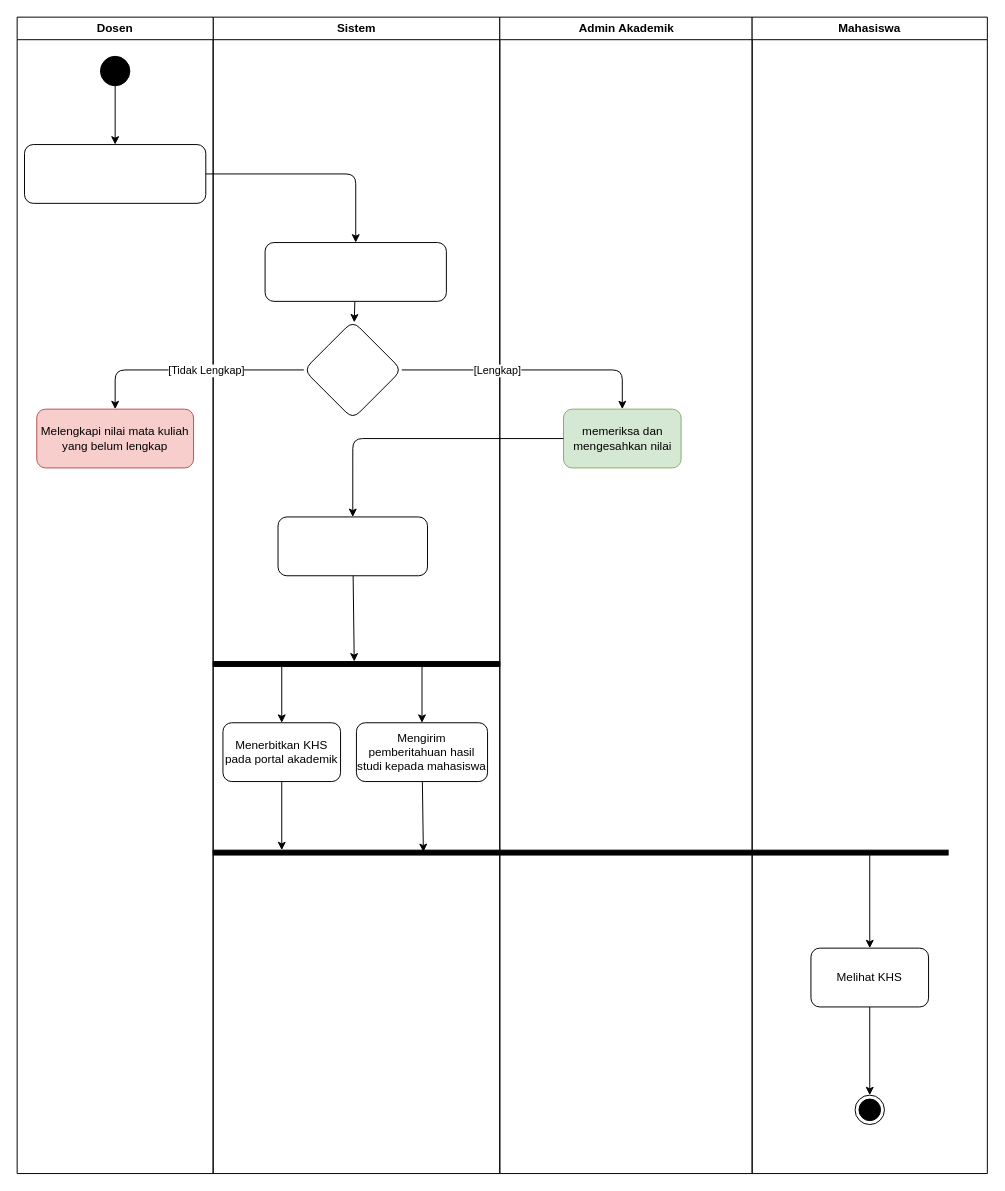
Some shapes in this 1005 by 1191 pixel diagram are drawn without their labels. The shapes that lost their labels are listed below. From the top down, each one's centre as x and y in pixels, then its label:
At point 115,173: "Memilih input nilai mata kuliah".
At point 355,271: "Menampung inputan nilai mata kuliah".
At point 352,369: "Nilai Sudah Lengkap?".
At point 352,546: "menyiapkan publikasi hasil studi".
